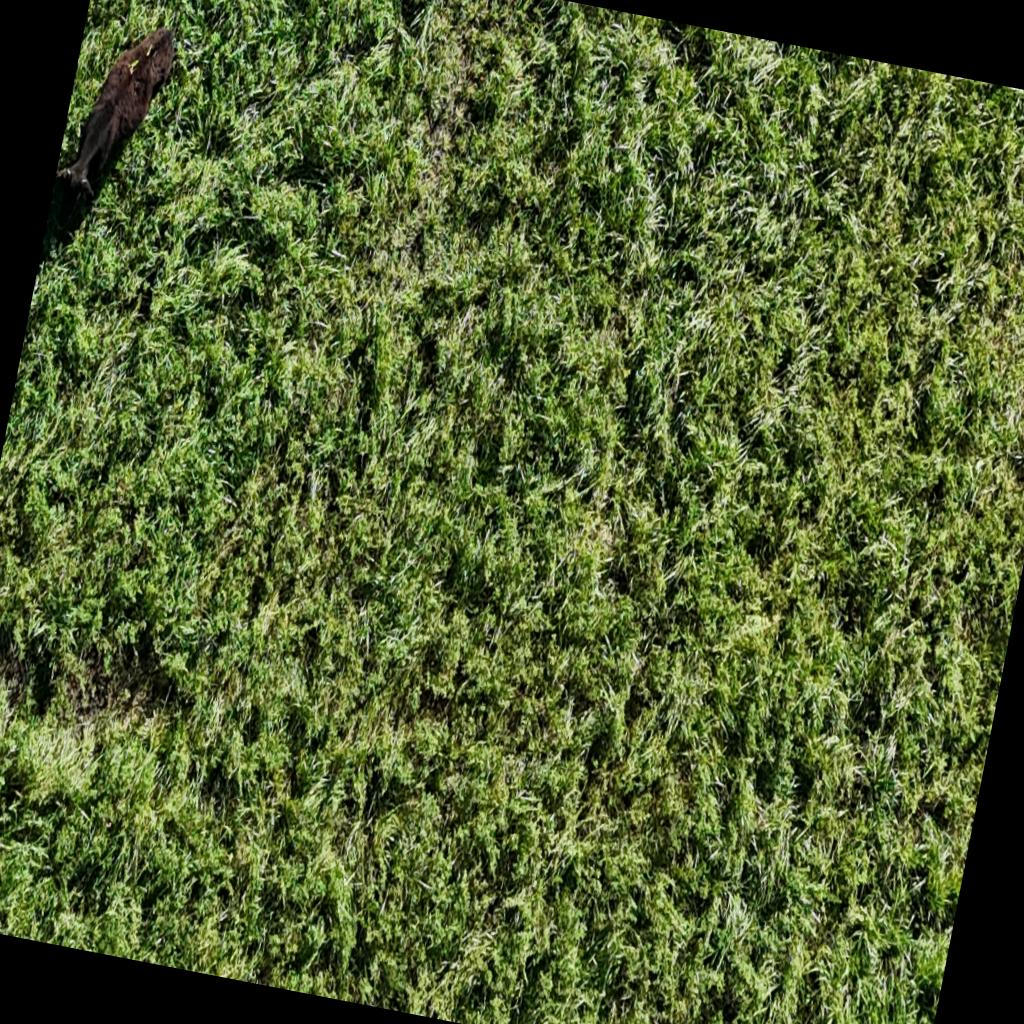cow: (39, 1, 188, 280)
